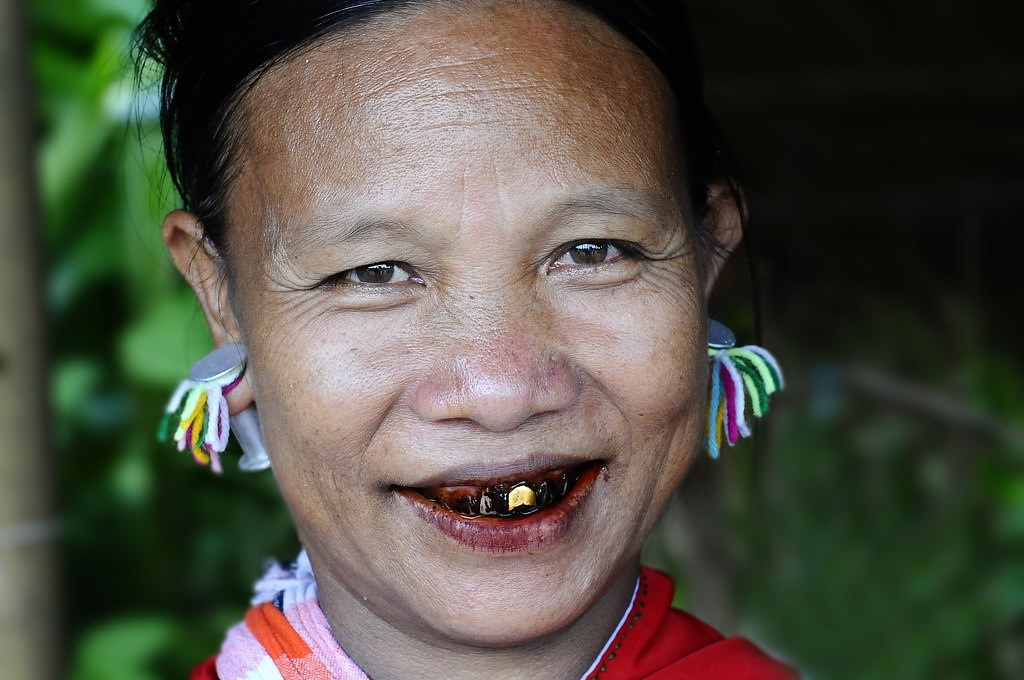face_no_mask: (160, 1, 749, 653)
